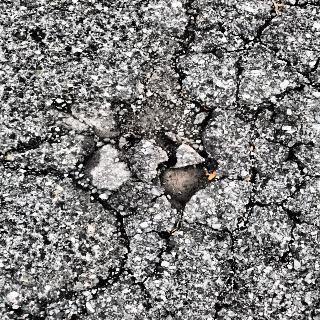alligator-crack: (8, 129, 320, 320), (174, 2, 320, 136)
